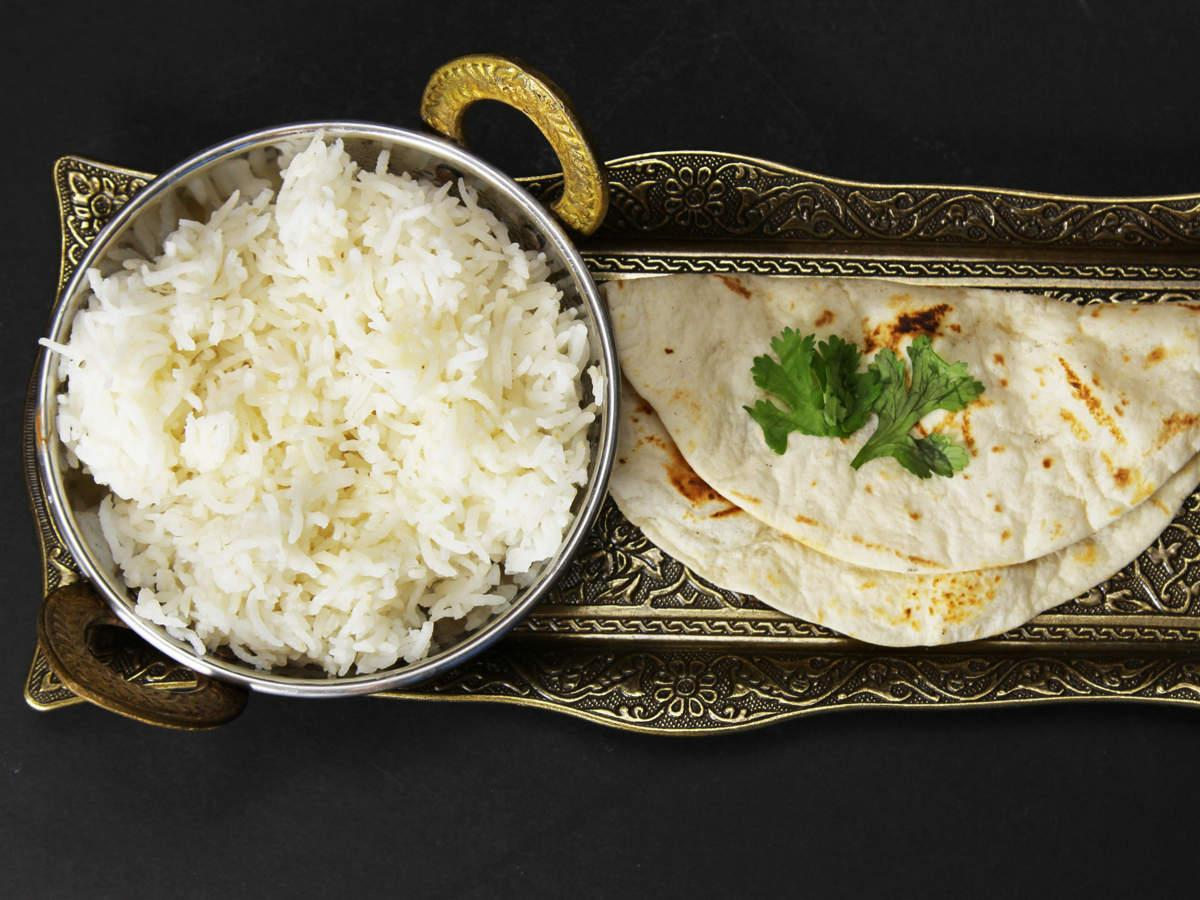rice: (69, 150, 599, 661)
roti: (608, 285, 1198, 642)
